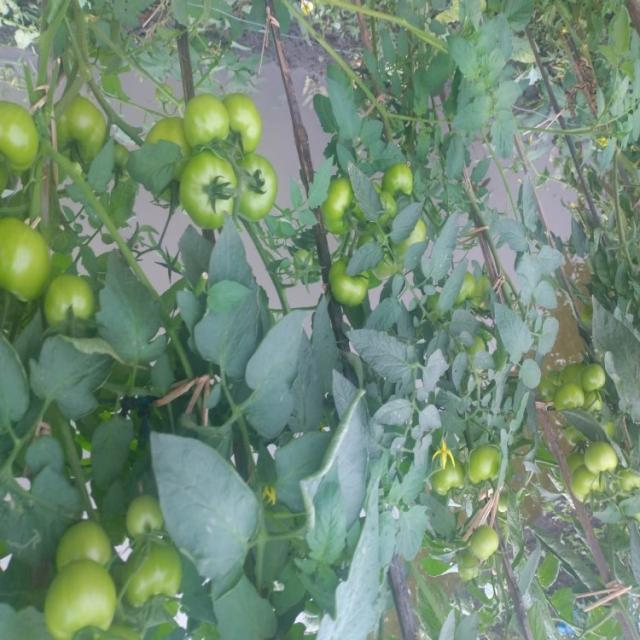tomato: (44, 89, 132, 165), (44, 558, 124, 638), (184, 149, 245, 240), (223, 82, 284, 168), (4, 213, 54, 314), (174, 96, 240, 162), (1, 99, 57, 176), (119, 546, 188, 601), (322, 169, 374, 238), (325, 251, 381, 309), (47, 519, 115, 561), (40, 273, 91, 327), (244, 162, 287, 221), (467, 522, 516, 564), (378, 155, 417, 207), (475, 440, 514, 490), (119, 498, 163, 541), (571, 473, 614, 512), (580, 365, 613, 398), (583, 442, 616, 474), (559, 381, 582, 416), (436, 464, 466, 485), (624, 466, 640, 497)
